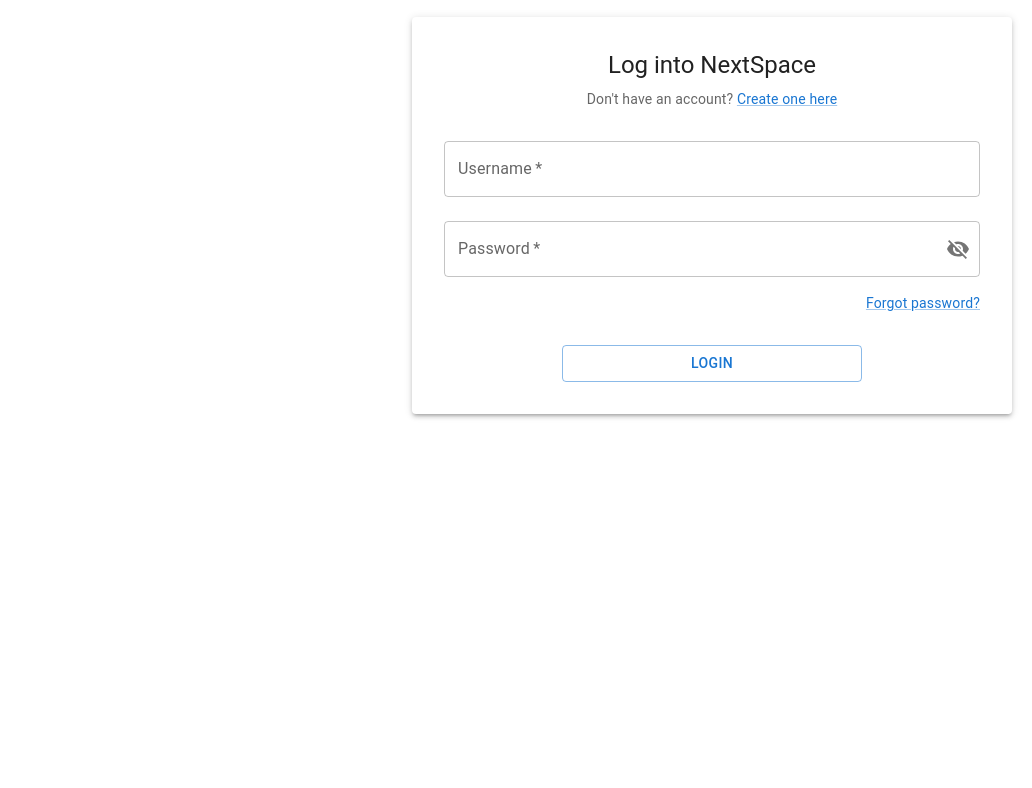
LoginPage › handles authentication error from server
Type "testuser" into the field labelled "Username *" at (712, 169), box [444,141,980,197]
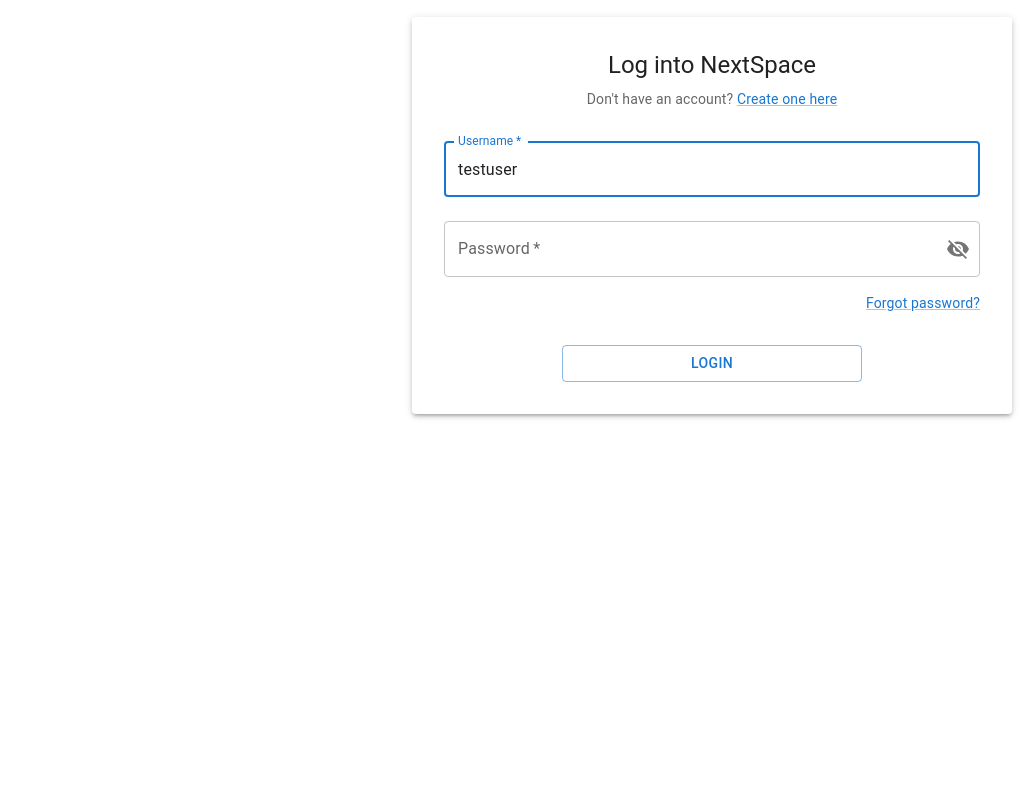
Type "wrongpassword" into the password field named "password" at (687, 249), box [444,221,930,277]
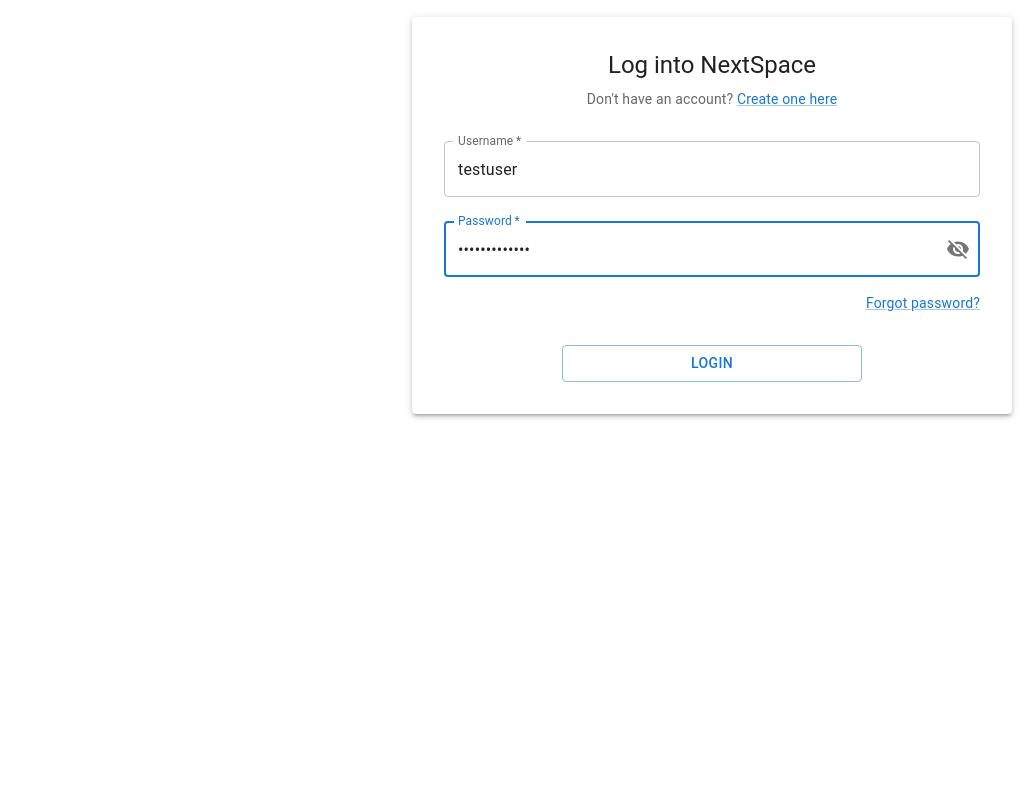
Click the button "Login" at (712, 364), box [562,345,862,382]
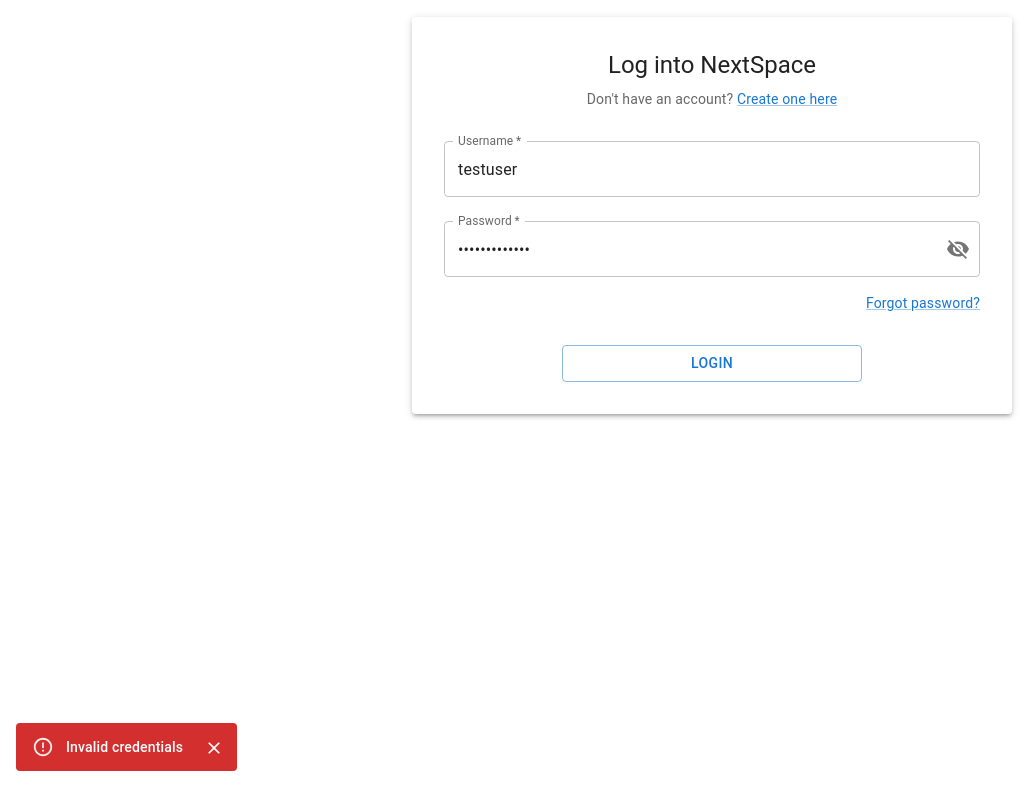
Expected: the text "Invalid credentials" is shown, [66,739,183,755]
